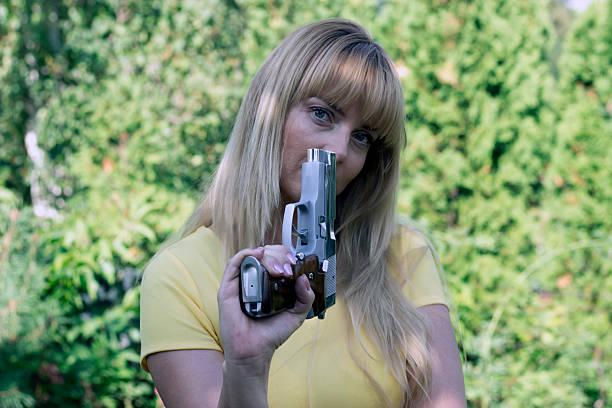weapon: (235, 144, 344, 322)
